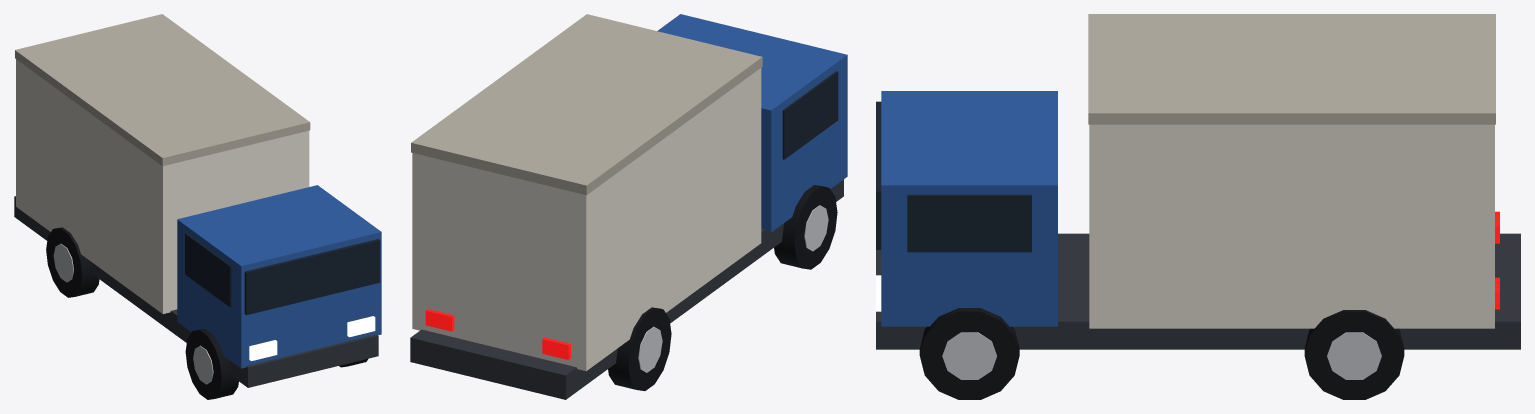
The model's file is truk_1.glb.
3 renders of one model, left to right at view 1: azimuth 30°, elevation 25°; view 2: azimuth 150°, elevation 25°; view 3: azimuth 270°, elevation 25°, orthographic. The views are drawn at different scales.
Parts seen in each view (by area): view 1: object 6, object 7, object 2, object 3, object 1, wheel_fl, wheel_rl, object 4, object 8, object 10; view 2: object 6, object 7, object 2, object 1, wheel_fl, wheel_rl, object 4, object 11, object 9; view 3: object 6, object 7, object 2, object 1, object 5, wheel_fr, wheel_rr, object 3.
Boxes of the visible parts, box(x1,y1,x2,y2) form: object 6: box(16, 59, 309, 313); object 7: box(15, 14, 310, 166); object 2: box(177, 185, 381, 368); object 3: box(244, 239, 380, 315); object 1: box(14, 196, 378, 387); wheel_fl: box(185, 329, 238, 399); wheel_rl: box(46, 227, 99, 297); object 4: box(185, 233, 231, 307); object 8: box(249, 340, 277, 360); object 10: box(347, 316, 375, 337); object 6: box(412, 68, 761, 371); object 7: box(411, 14, 762, 195); object 2: box(657, 14, 847, 232); object 1: box(410, 179, 843, 399); wheel_fl: box(774, 185, 837, 269); wheel_rl: box(608, 307, 671, 390); object 4: box(782, 71, 838, 159); object 11: box(425, 309, 454, 331); object 9: box(542, 337, 570, 359); object 6: box(1089, 124, 1494, 328); object 7: box(1088, 14, 1495, 124); object 2: box(881, 91, 1057, 326); object 1: box(876, 233, 1520, 349); object 5: box(907, 194, 1031, 252); wheel_fr: box(919, 308, 1019, 399); wheel_rr: box(1304, 310, 1404, 399); object 3: box(876, 101, 881, 249).
Bounding box in the file's own units: 2.34 × 3.03 × 6.2.
